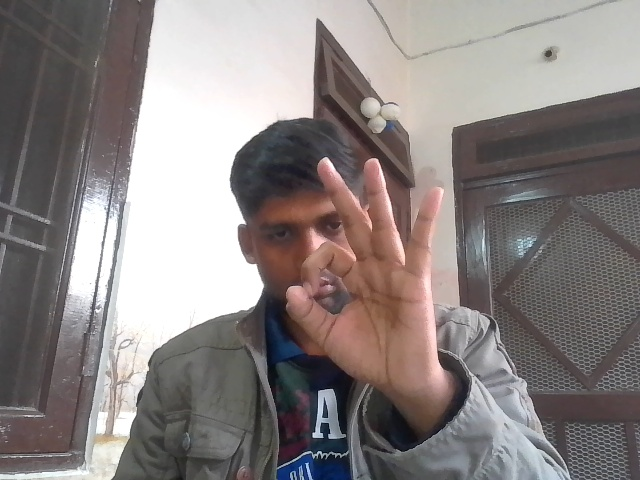Good: (267, 144, 455, 389)
